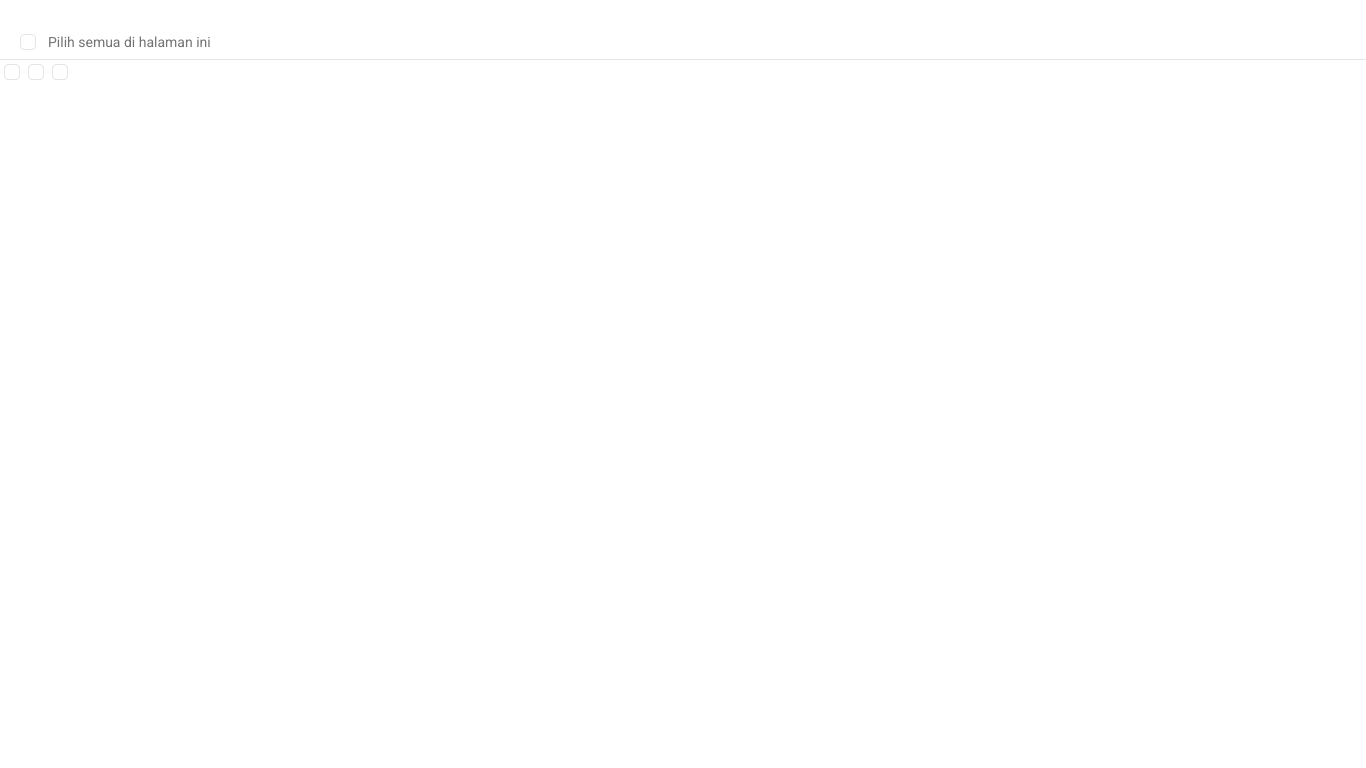
Test case: bulk tagging on the member table (task 5.5) › offers only tags the selected members have when removing
The width and height of the screenshot is (1366, 768).
Click the checkbox named "Pilih Ahmad" at (12, 72), box [4, 64, 20, 80]
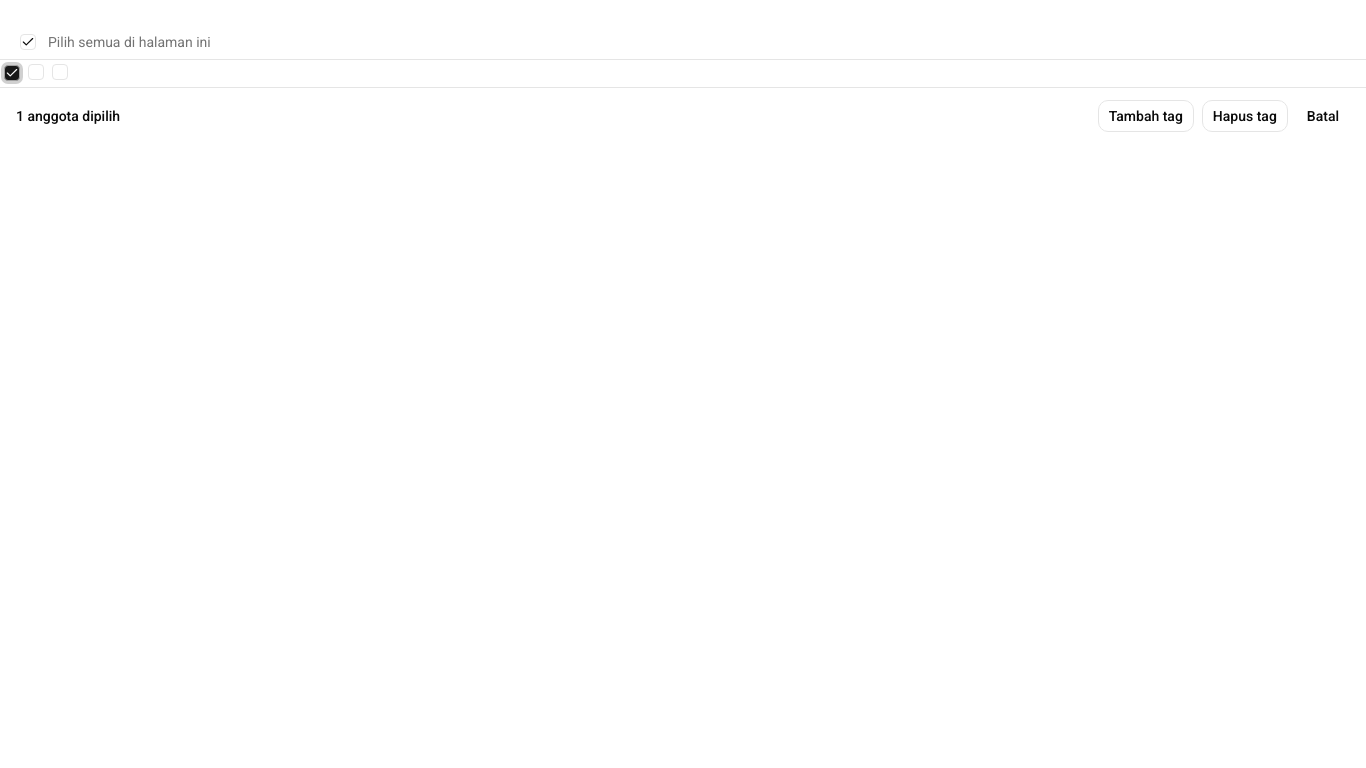
Click the button "Hapus tag" at (1245, 116), box [1202, 100, 1288, 132]
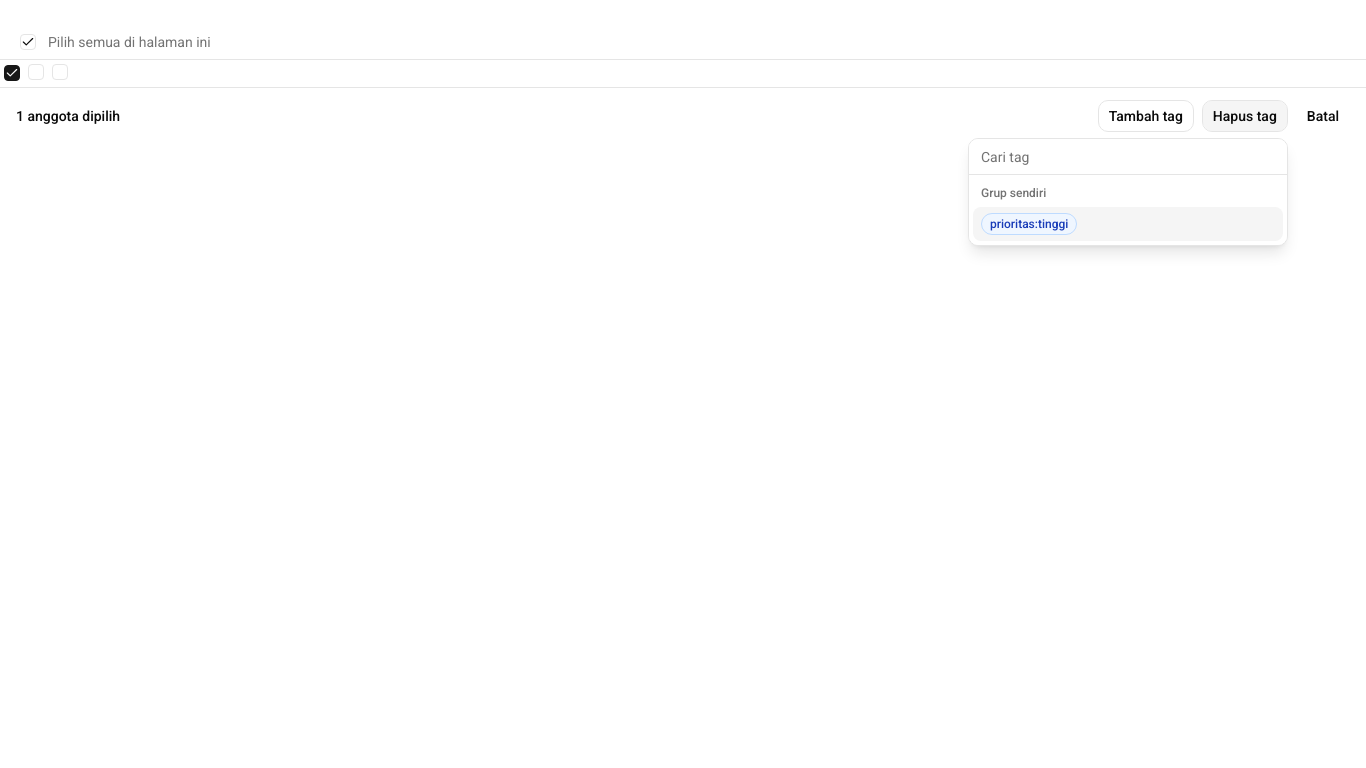
Now the option "prioritas:tinggi" is shown, box [973, 207, 1283, 241]
